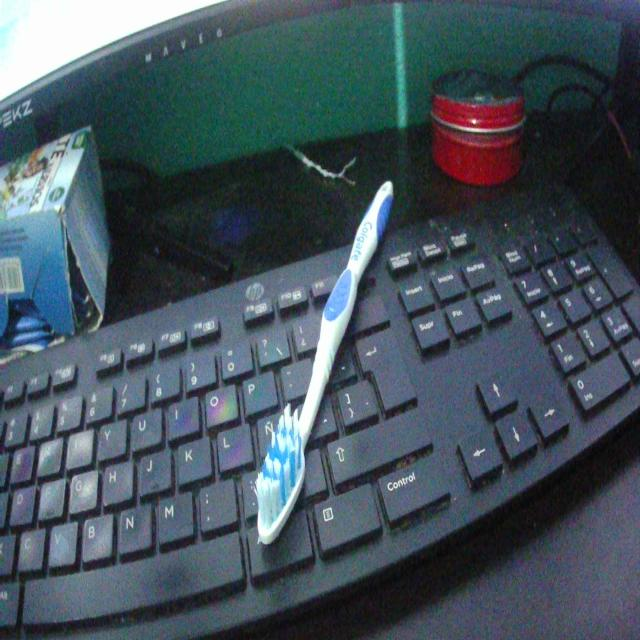Organico: (248, 166, 414, 569)
